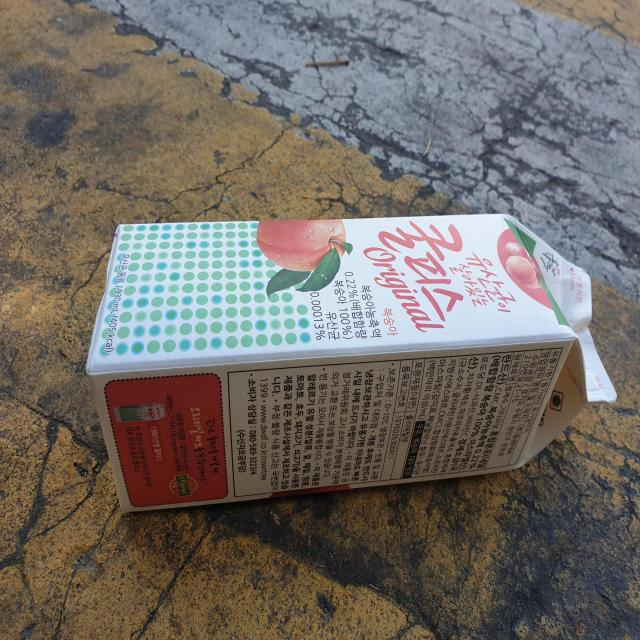paperpack: (86, 215, 617, 511)
